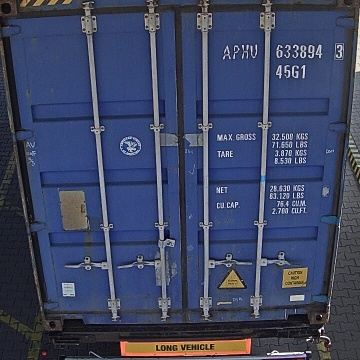serial_id: (222, 44, 344, 59)
